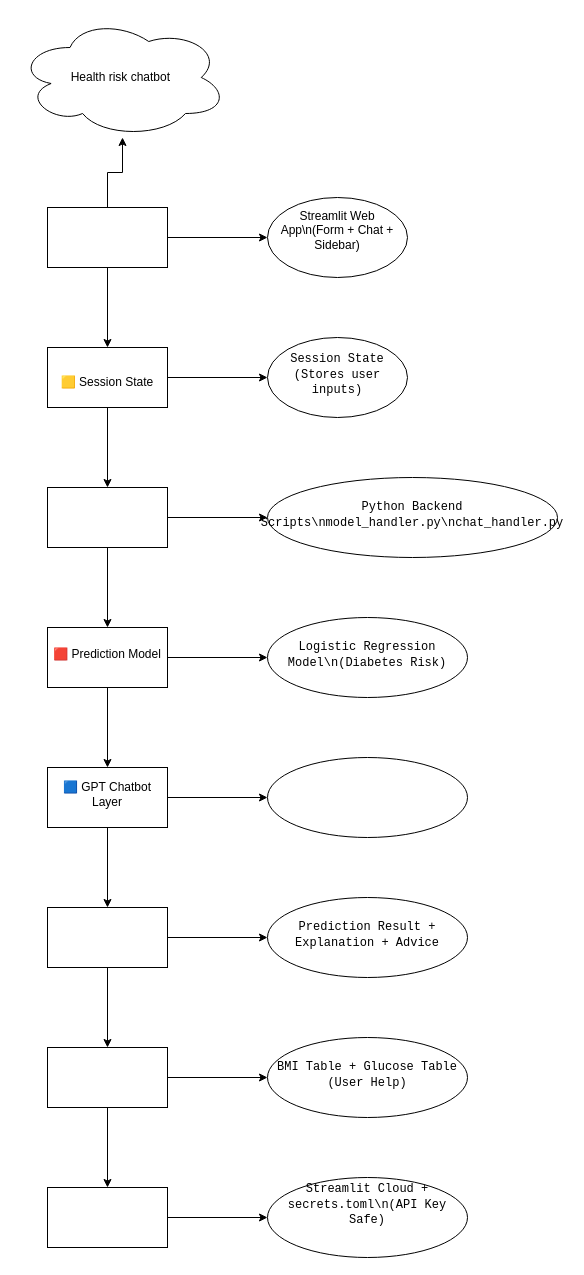
The diagram is 584 pixels wide and 1275 high, and some of its shapes have lost their labels. Each missing label, with the centre of its shape:
"OpenAI GPT API\n(Smart follow-up replies)" belongs at (367,797).
"🟧 Backend Script" belongs at (107,517).
"🟩 Frontend" belongs at (107,237).
"🟪 Output Layer" belongs at (107,937).
"🟫 Deployment" belongs at (107,1217).
"🟫 Sidebar Info" belongs at (107,1077).
